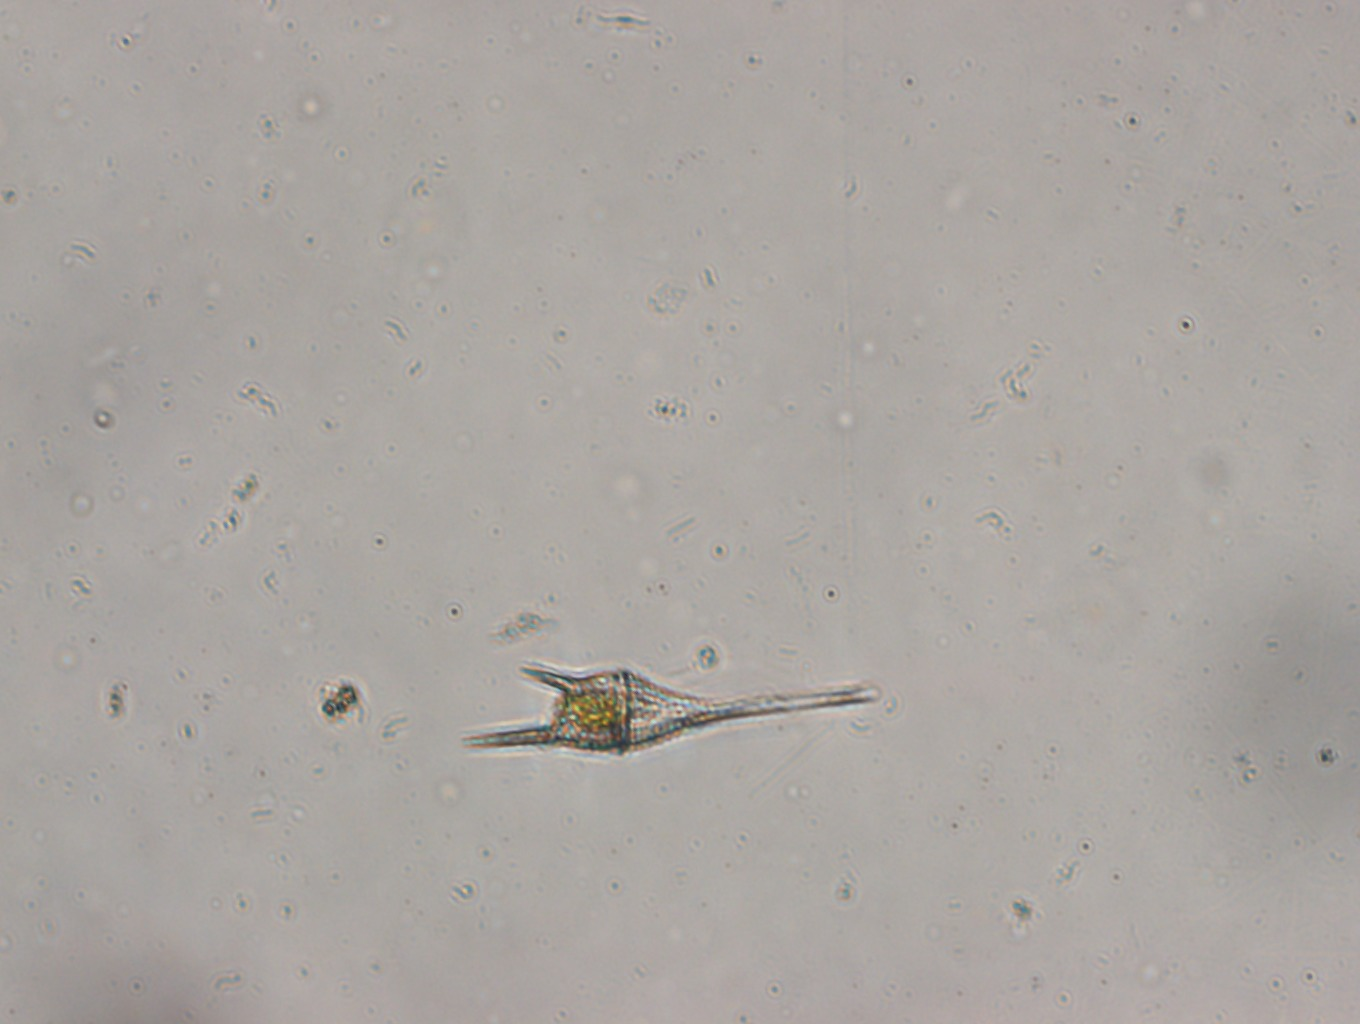ceratium furca: (455, 648, 886, 767)
